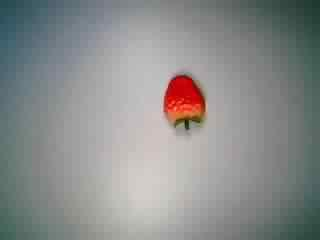strawberry: (152, 69, 218, 135)
